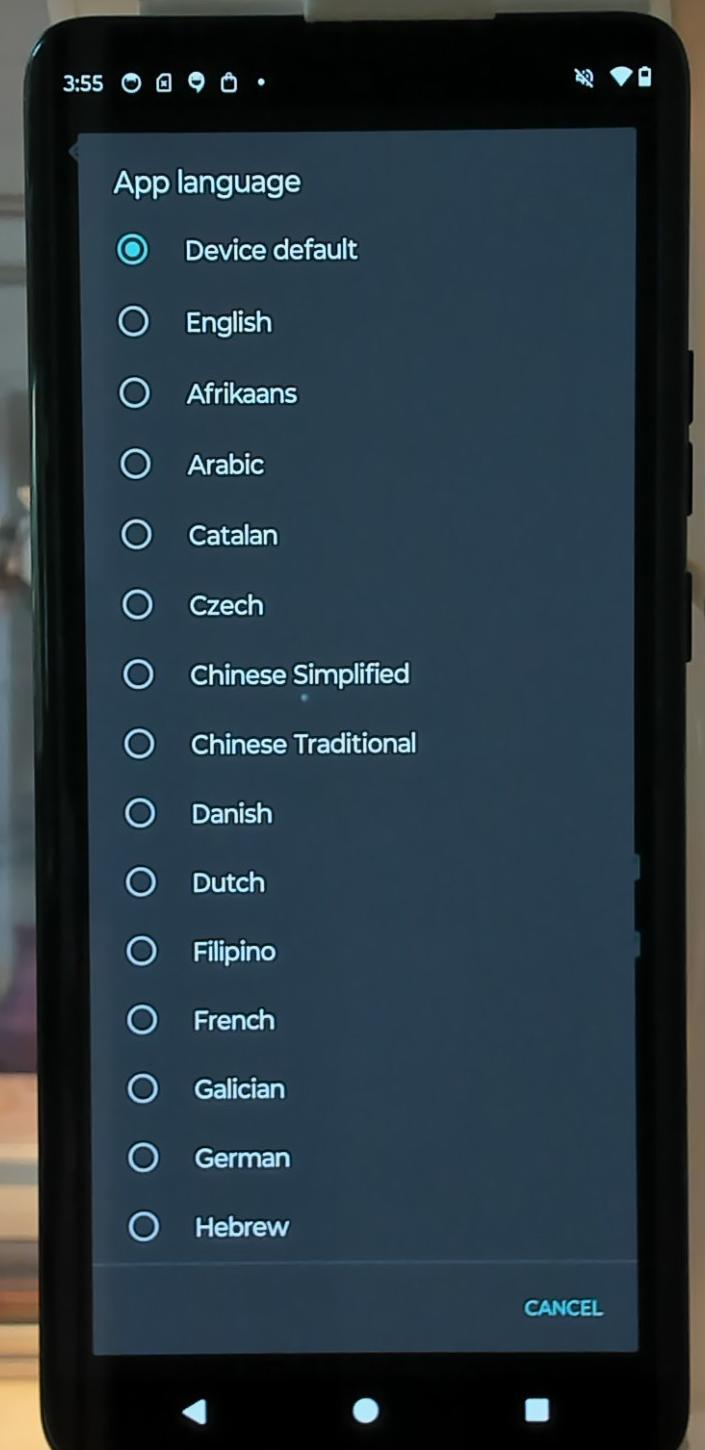CommunBotton: (170, 1382, 219, 1436), (517, 1384, 562, 1430), (347, 1382, 382, 1433)
RadioButton: (111, 646, 421, 699), (109, 218, 369, 276), (120, 720, 424, 766), (111, 365, 308, 417), (121, 1062, 294, 1114), (121, 1132, 300, 1181), (113, 433, 277, 486), (121, 925, 283, 978), (123, 1204, 301, 1249), (114, 511, 286, 557), (121, 855, 272, 907), (122, 992, 282, 1041), (121, 786, 277, 836), (109, 297, 278, 343), (116, 580, 273, 625)
